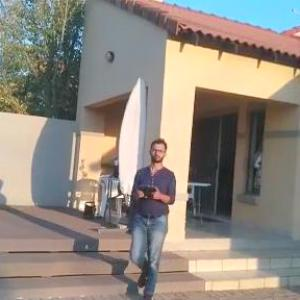follow: (124, 134, 180, 299)
